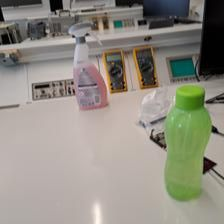bottle: (163, 84, 213, 200)
